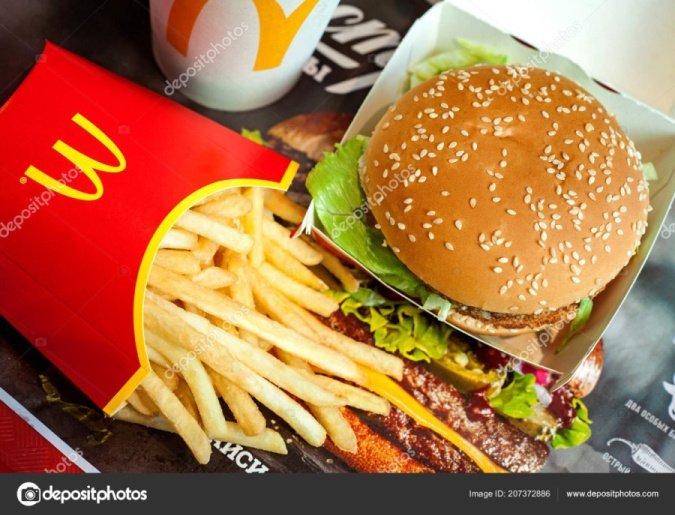mcdonalds: (18, 107, 132, 211)
